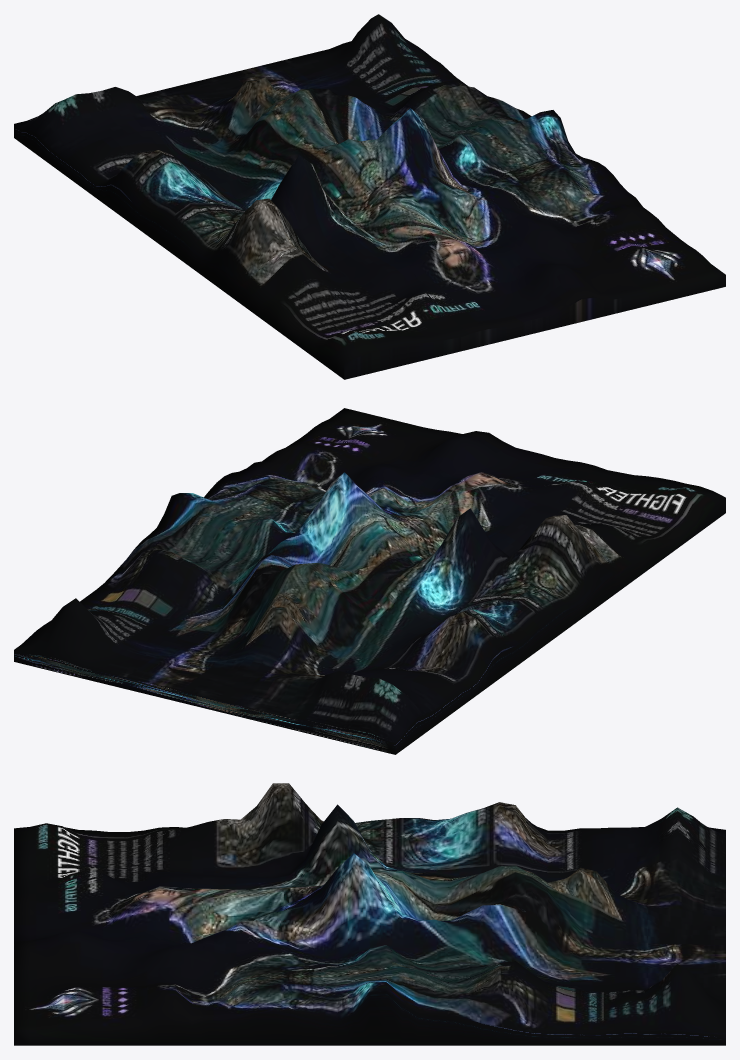
The model's file is CAREER_06_Outfit_06_Immortal.glb.
3 views of the same model, one above another, from view 1: azimuth 30°, elevation 25°; view 2: azimuth 150°, elevation 25°; view 3: azimuth 270°, elevation 25° (orthographic). The views are drawn at different scales.
Visible parts, largest first — view 1: CAREER_06_Outfit_06_Immortal; view 2: CAREER_06_Outfit_06_Immortal; view 3: CAREER_06_Outfit_06_Immortal.
Boxes of the visible parts, <box> form: CAREER_06_Outfit_06_Immortal: <box>14,14,725,379</box>; CAREER_06_Outfit_06_Immortal: <box>14,408,725,754</box>; CAREER_06_Outfit_06_Immortal: <box>14,783,725,1045</box>.
Size of the model in its own units: 2 by 0.51 by 3.
Materials: 1 (1 with a texture image).
